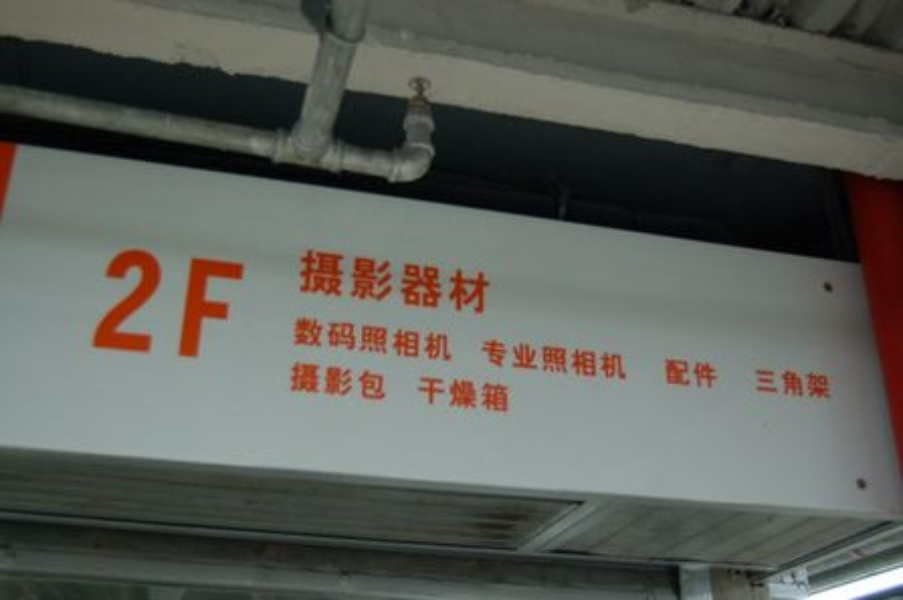text: (113, 245, 128, 366), (129, 245, 144, 366), (145, 245, 160, 366), (161, 245, 176, 366), (177, 245, 192, 366), (193, 245, 208, 366), (209, 245, 224, 366), (225, 245, 240, 366), (99, 245, 112, 366), (305, 247, 320, 318), (321, 247, 336, 318), (337, 247, 352, 318), (353, 247, 368, 318), (369, 247, 384, 318), (385, 247, 400, 318), (401, 247, 416, 318), (417, 247, 432, 318), (433, 247, 448, 318), (449, 247, 464, 318), (465, 247, 480, 318), (241, 245, 249, 366), (481, 247, 493, 318), (305, 316, 320, 364), (321, 316, 336, 364), (337, 316, 352, 364), (353, 316, 368, 364), (369, 316, 384, 364), (385, 316, 400, 364), (401, 316, 416, 364), (417, 316, 432, 364), (433, 316, 448, 364), (481, 336, 496, 384), (497, 336, 512, 384), (513, 336, 528, 384), (529, 336, 544, 384), (545, 336, 560, 384), (561, 336, 576, 384), (577, 336, 592, 384), (593, 336, 608, 384), (609, 336, 624, 384), (305, 360, 320, 405), (321, 360, 336, 405), (337, 360, 352, 405), (353, 360, 368, 405), (369, 360, 384, 405), (291, 316, 304, 364), (817, 366, 833, 403), (433, 376, 448, 413), (449, 376, 464, 413), (465, 376, 480, 413), (481, 376, 496, 413), (497, 376, 512, 413), (769, 366, 784, 403), (785, 366, 800, 403), (801, 366, 816, 403), (754, 366, 768, 403), (297, 247, 304, 318), (293, 360, 304, 405), (419, 376, 432, 413), (673, 356, 688, 388), (689, 356, 704, 388), (705, 356, 720, 388), (385, 360, 392, 405), (665, 356, 672, 388), (449, 316, 453, 364), (625, 336, 627, 384), (479, 336, 480, 384)
